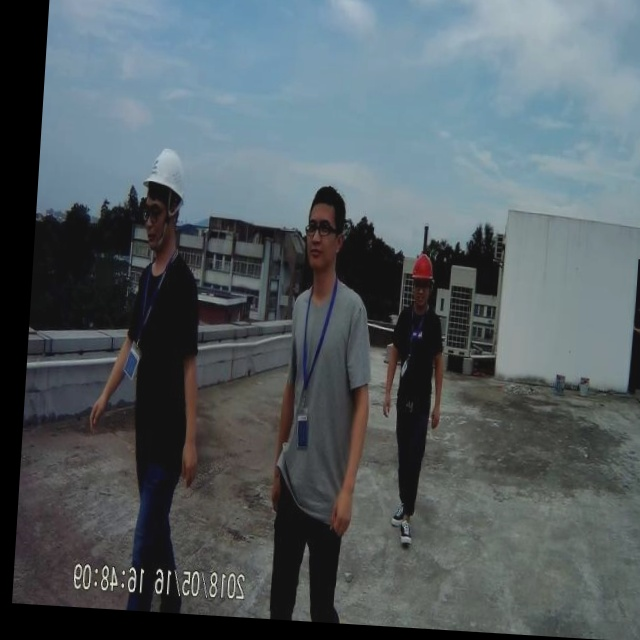Con_Casco: (141, 148, 189, 249)
Sin_Casco_Mascarrilla: (306, 183, 347, 270)
Sin_Chaleco: (280, 285, 366, 508)
